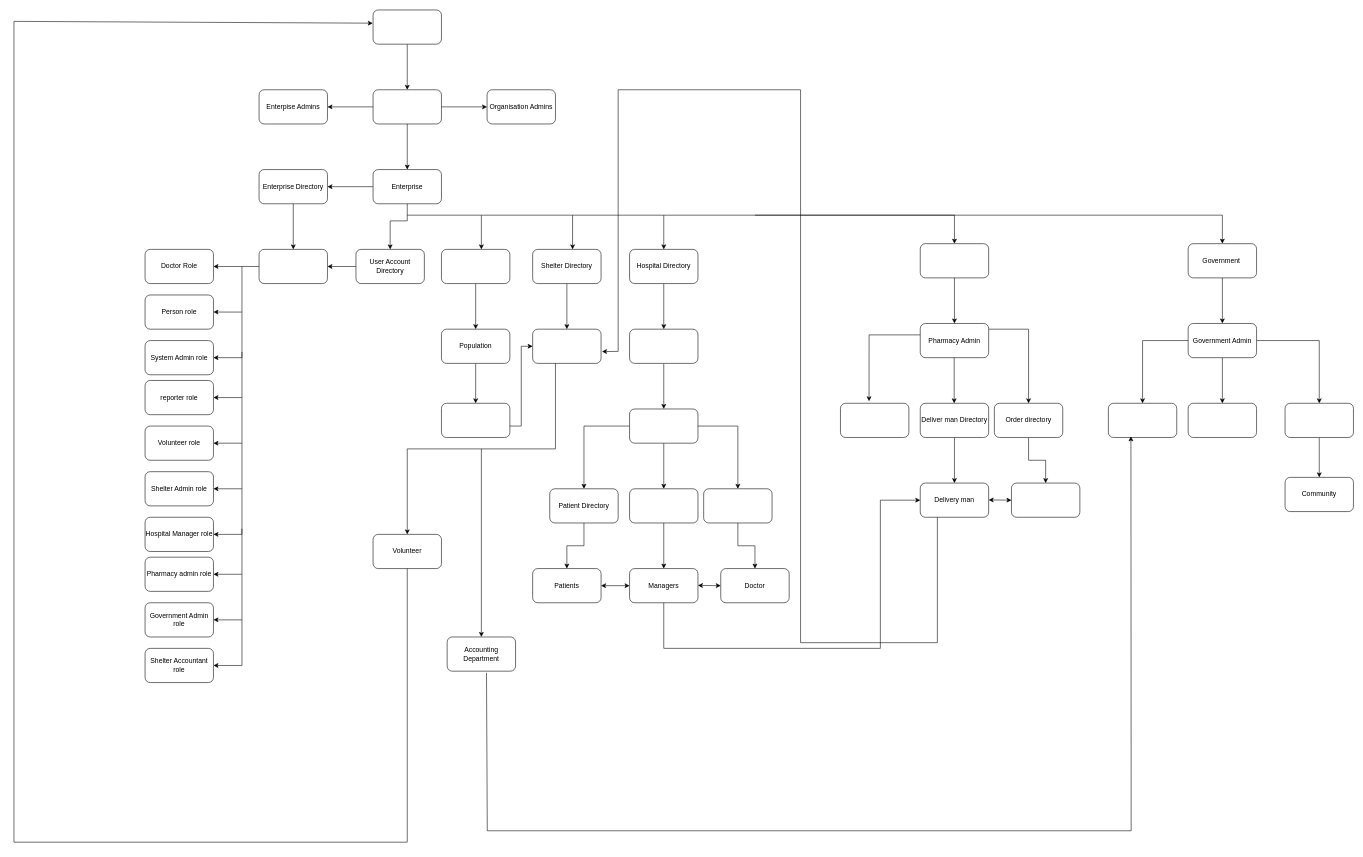
This 1363x857 diagram has some shape labels left out. The box of each missing label's shape, as (x1, y1, x2, y2) in pixels:
Animal: (372, 9, 441, 44)
Budgeting department: (1108, 403, 1177, 437)
City: (1284, 403, 1353, 437)
Doctor Directory: (703, 488, 772, 523)
Ecosystem: (372, 89, 441, 124)
Hospital: (629, 329, 698, 363)
Hospital Admin: (629, 408, 698, 443)
Hospital Managers: (629, 488, 698, 523)
Inventory: (840, 403, 909, 437)
Order: (1011, 483, 1080, 517)
Pharmacy: (920, 243, 989, 278)
Population Directory: (441, 249, 510, 284)
Report: (441, 403, 510, 437)
Reports: (1188, 403, 1257, 437)
Shelter: (532, 329, 601, 363)
User Account: (258, 249, 327, 284)
